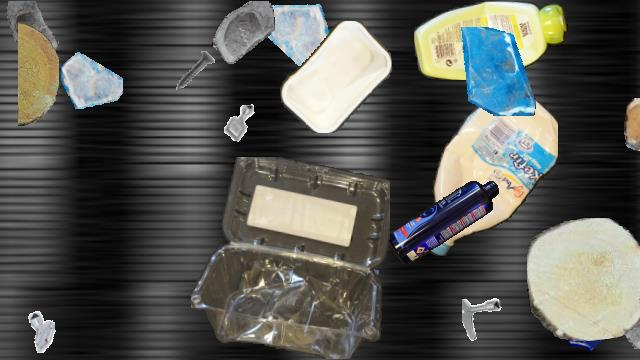glass: (452, 27, 540, 115), (303, 240, 379, 316), (259, 1, 331, 73), (3, 1, 67, 65), (557, 288, 619, 350), (61, 47, 123, 109), (212, 1, 274, 63), (597, 282, 640, 358)
metal: (462, 296, 522, 356), (169, 45, 223, 99), (214, 97, 266, 149), (22, 308, 66, 352)
plastic: (191, 157, 389, 359), (428, 86, 558, 260), (279, 21, 393, 133), (414, 1, 568, 79), (388, 181, 498, 263)
wood: (527, 218, 640, 340), (18, 22, 58, 126), (624, 98, 640, 150)
